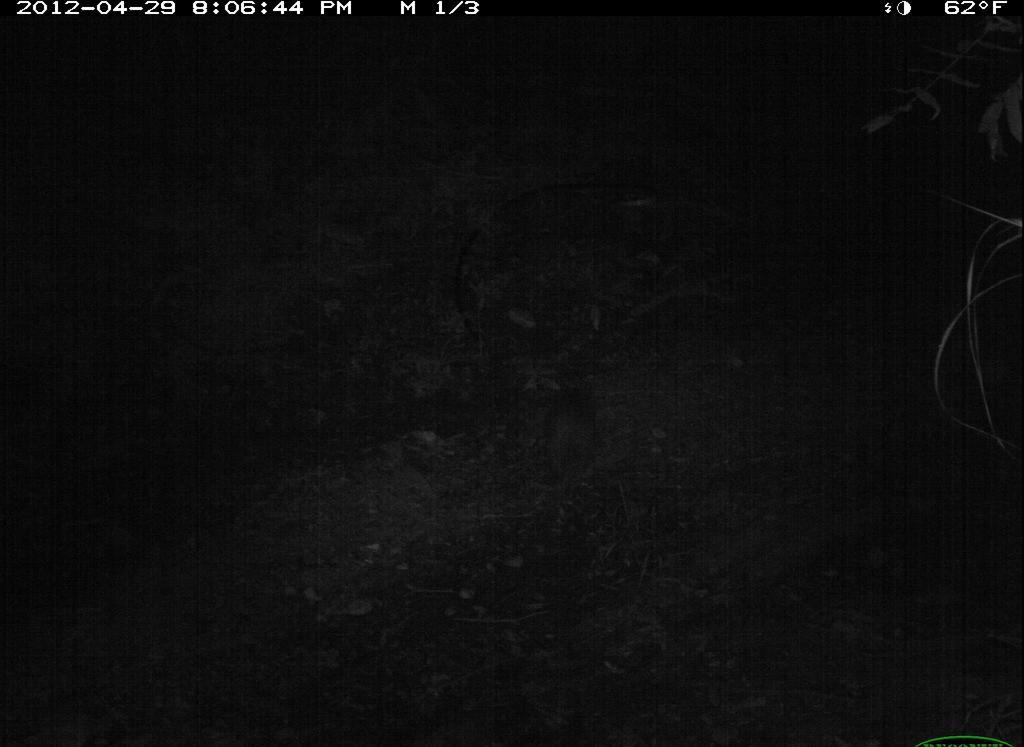opossum: (502, 373, 601, 498)
